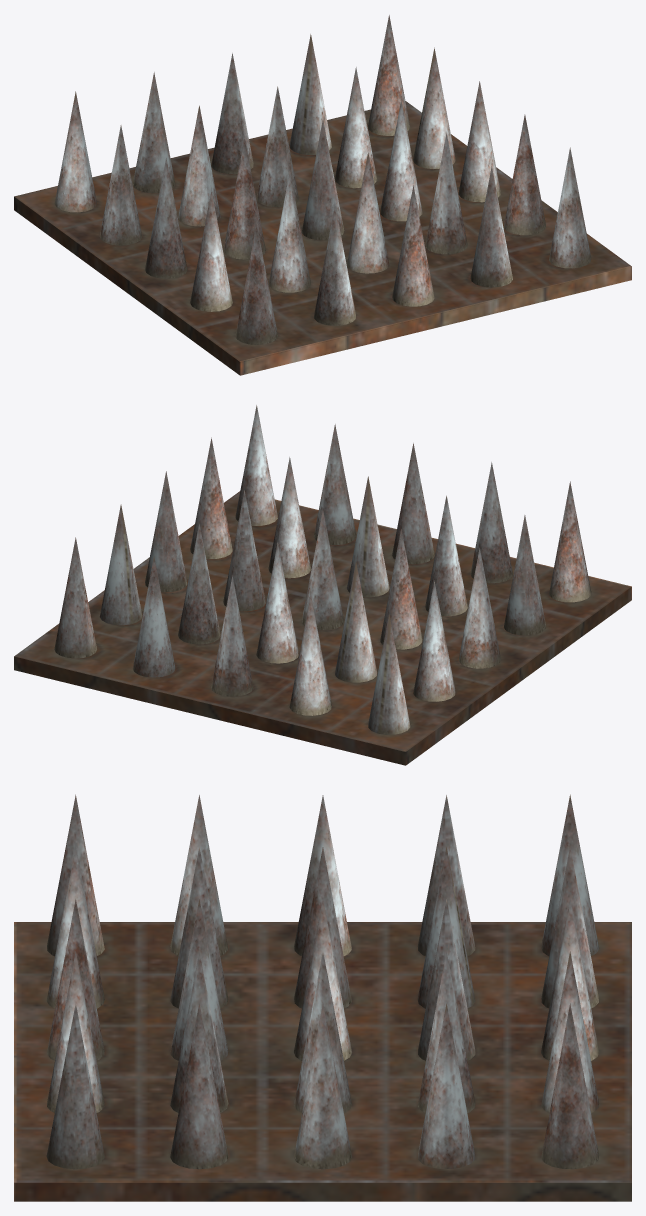
Rendered from 68_ELM_Spike.fbx.
3 renders of one model, top to bottom at view 1: azimuth 30°, elevation 25°; view 2: azimuth 150°, elevation 25°; view 3: azimuth 270°, elevation 25°, orthographic. The views are drawn at different scales.
Parts seen in each view (by area): view 1: Spike; view 2: Spike; view 3: Spike.
Boxes of the visible parts, x1,y1,x2,y2 form: Spike: (14, 15, 631, 375); Spike: (14, 405, 631, 765); Spike: (14, 794, 631, 1201).
Size of the model in its own units: 2.08 by 0.6426 by 2.08.
1 material, 1 textured.
